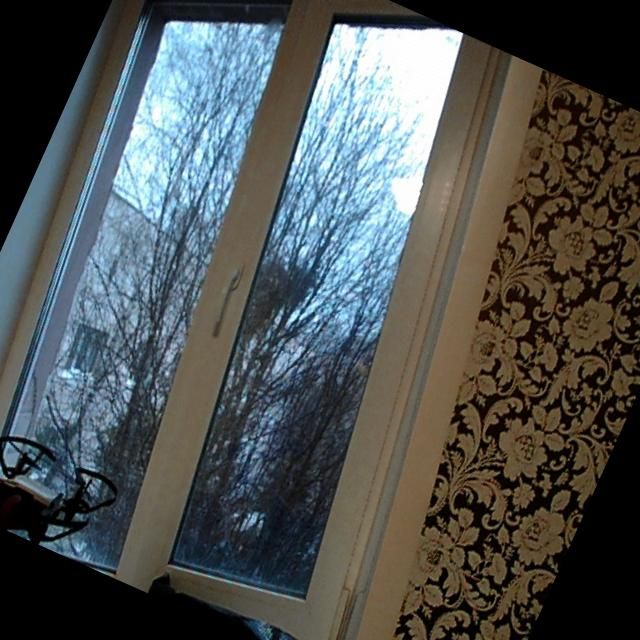drone: (0, 408, 130, 569)
